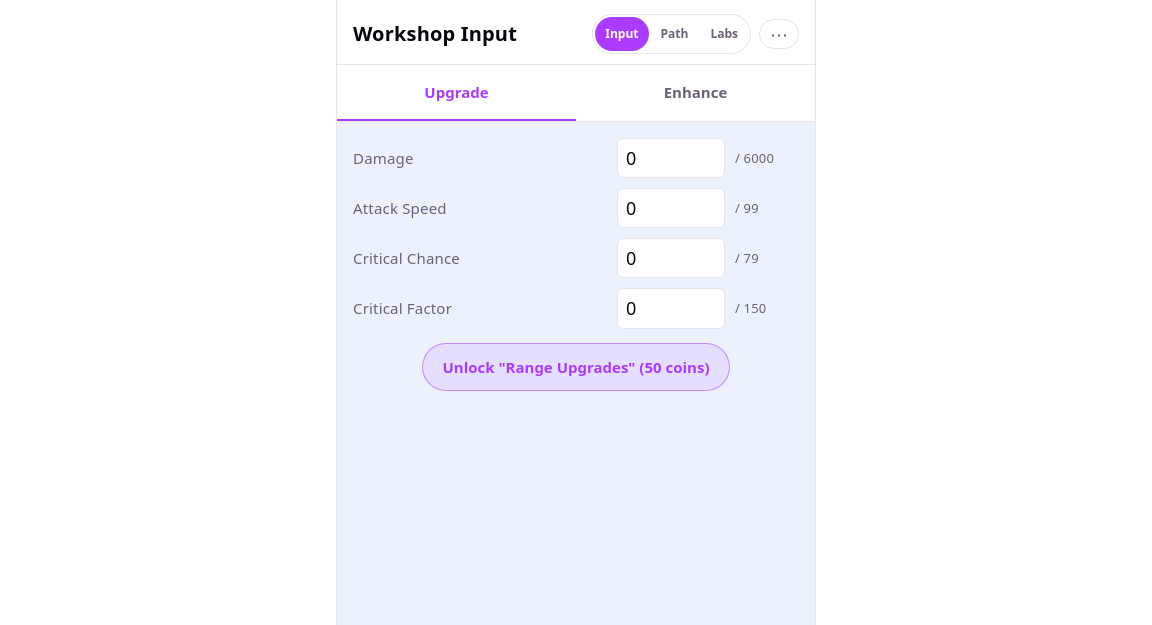
Test case: App › also zeroes every Workshop discount Lab level when clearing (OQ-4)
The image size is (1152, 625).
Click the tab "Labs" at (724, 34), box [700,17,748,51]
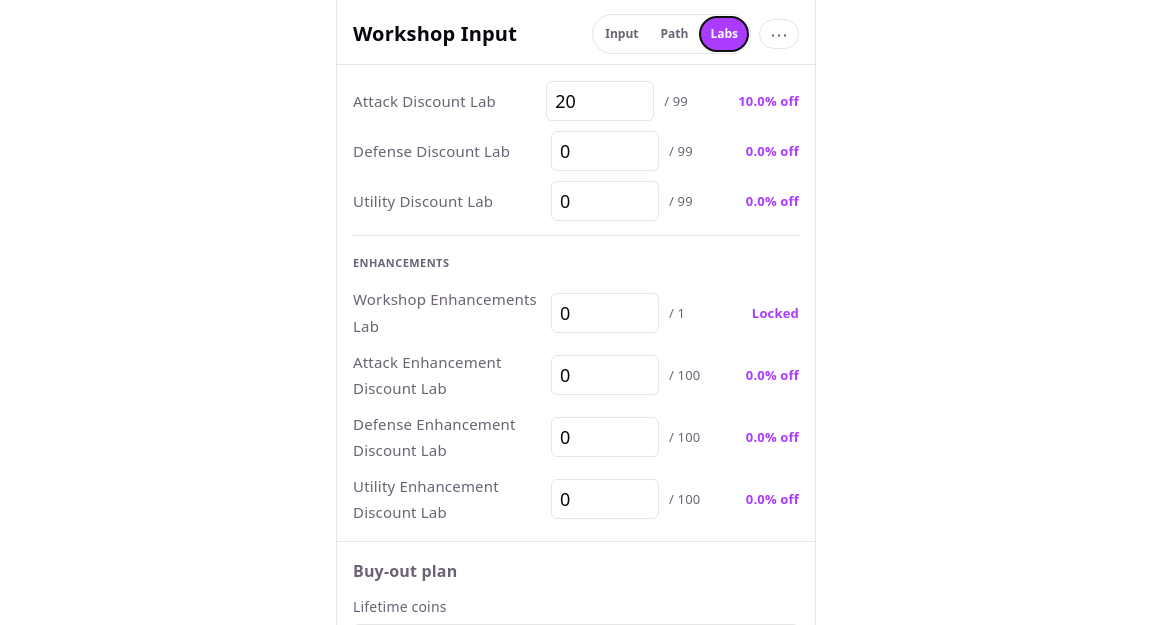
Check: the number field labelled "Attack Discount Lab" holds "20", box [546,81,654,121]
Click the button named "More actions" at (779, 34), box [759,19,799,49]
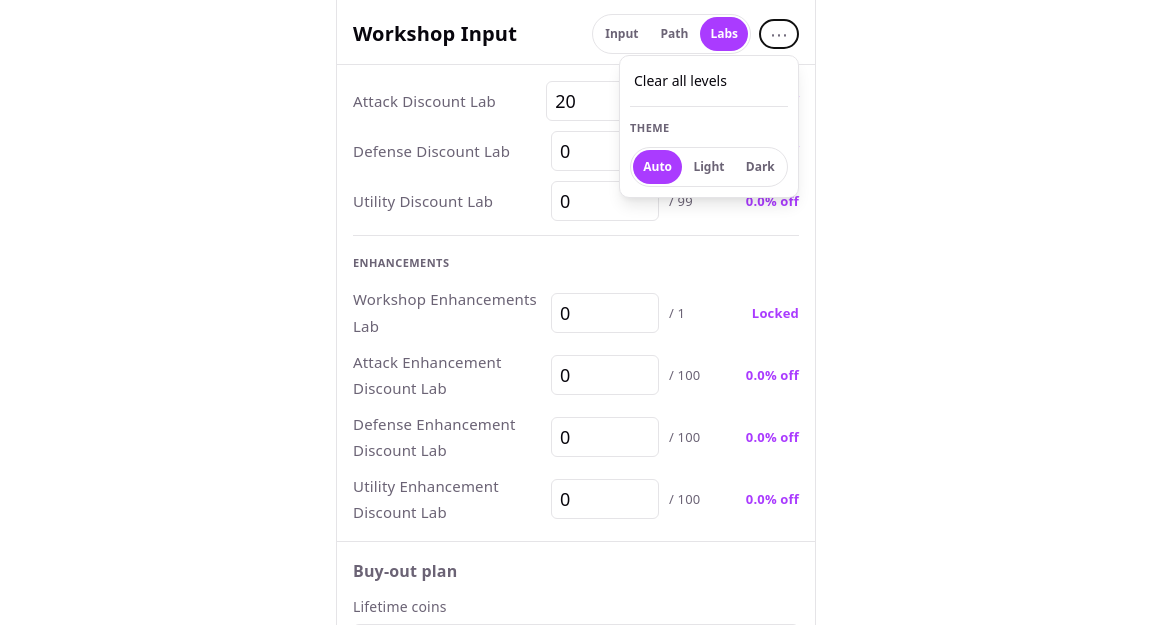
Click the button "Clear all levels" at (709, 81), box [624,60,794,102]
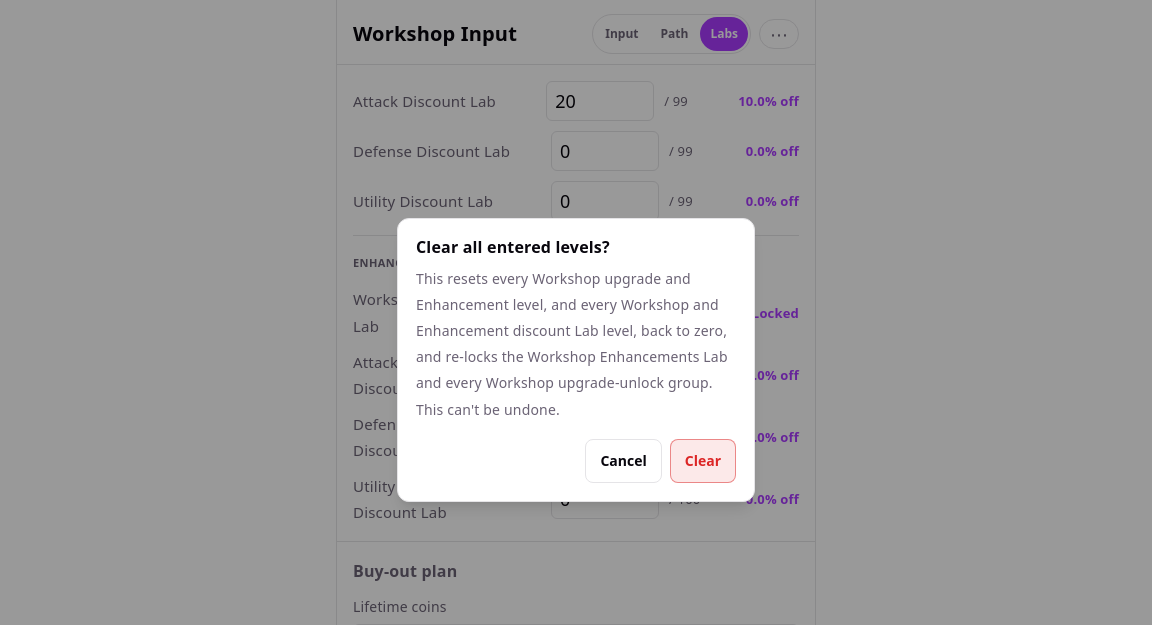
Click the button "Clear" at (703, 461), box [670,439,736,483]
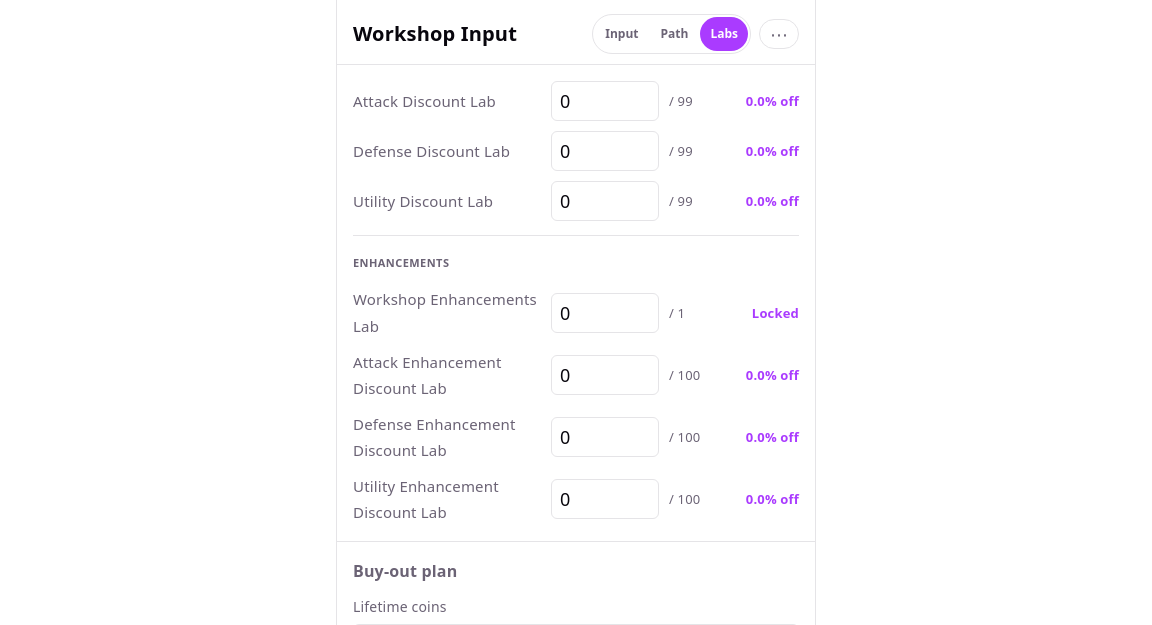
Check: the number field labelled "Attack Discount Lab" holds "0", box [551,81,659,121]
